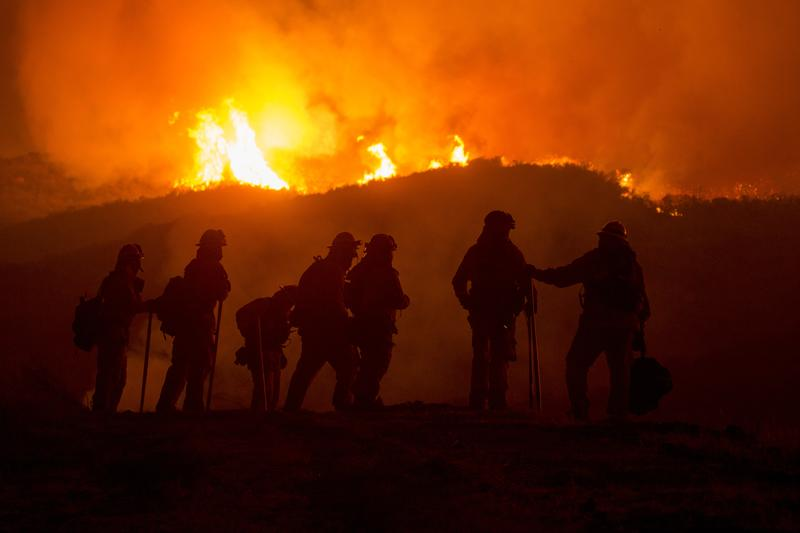Fire: (182, 59, 479, 199)
